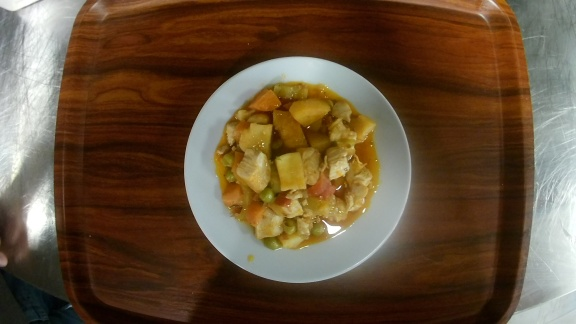bezelyelitavuk: (182, 55, 412, 286)
